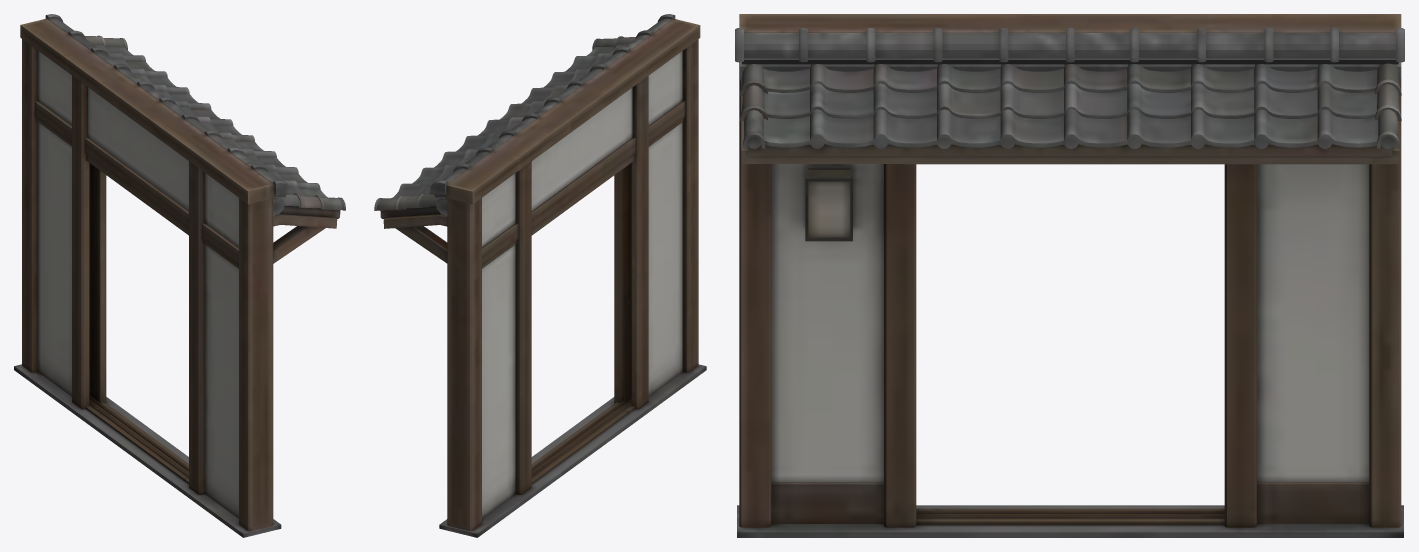
Rendered from Architecture_JapaneseStyle_DoorA_a181de.glb.
The picture shows the model from 3 angles, left to right: view 1: azimuth 30°, elevation 25°; view 2: azimuth 150°, elevation 25°; view 3: azimuth 270°, elevation 25°; orthographic projection. The views are drawn at different scales.
Bounding box in the file's own units: 1.07 × 3.39 × 4.07.
1 material, 1 textured.
